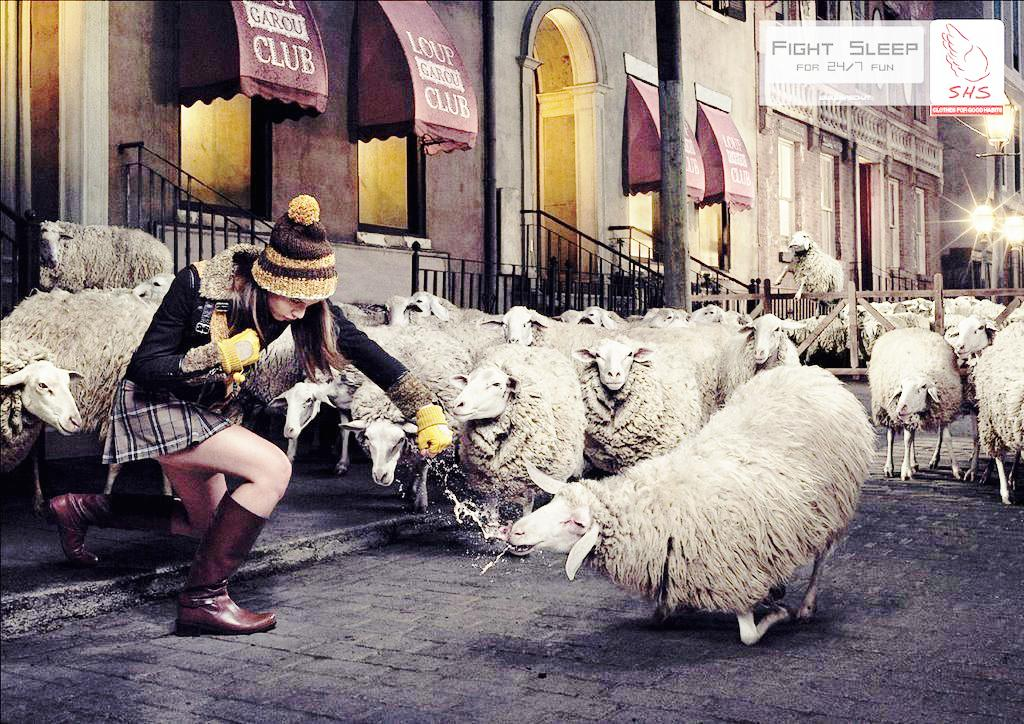Sheep: (509, 362, 885, 645), (0, 275, 179, 452), (440, 343, 585, 514), (337, 329, 465, 508), (583, 327, 713, 462), (857, 315, 958, 475), (969, 322, 1024, 499), (727, 305, 805, 412), (481, 296, 587, 367), (775, 223, 850, 300)
